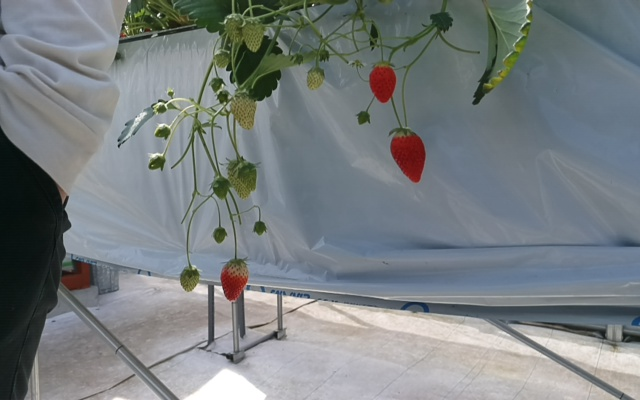GreenStrawberry: (227, 157, 259, 203), (228, 90, 260, 130), (241, 17, 267, 55), (177, 265, 200, 294), (303, 64, 326, 92), (224, 14, 244, 43), (209, 178, 228, 200), (212, 49, 231, 69)
MatureStrawberry: (388, 126, 427, 184), (220, 258, 250, 303), (368, 60, 398, 105)
